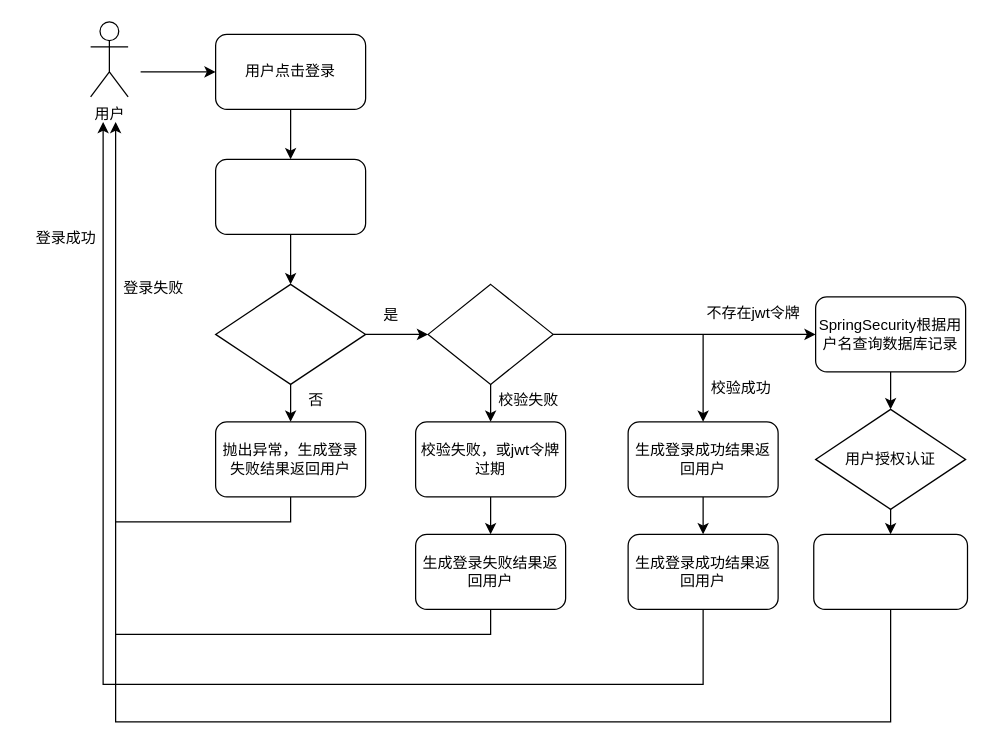
Some shapes in this 989 by 745 pixel diagram are drawn without their labels. The shapes that lost their labels are listed below. From the top down, each one's centre as x and y in pixels, then its label:
At pixel 290 196: "前端发送携带用户填写的表单数据的axios请求到后端".
At pixel 290 333: "判断请求类型 是否为Post".
At pixel 490 333: "校验jwt令牌".
At pixel 890 571: "生成用户名或密码错误结果返回用户".
